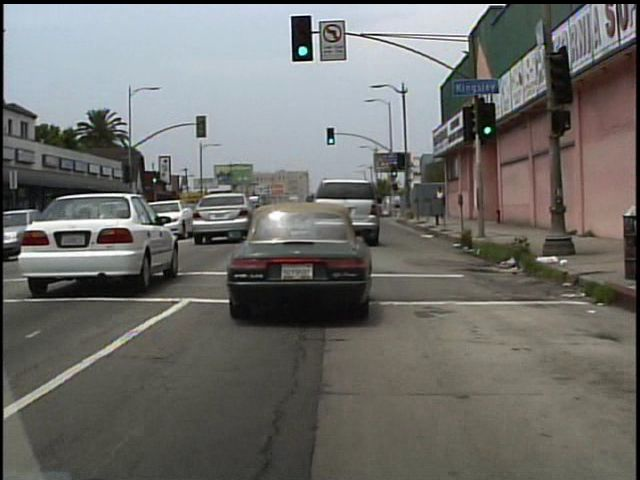person: (433, 184, 447, 216)
